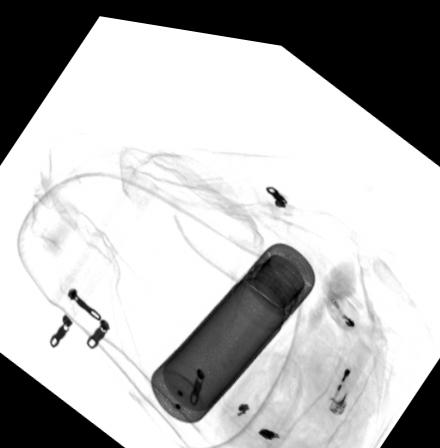Lighter: (323, 323, 371, 404)
